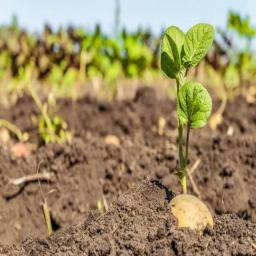Leaf: (177, 82, 212, 130), (184, 22, 214, 67), (161, 25, 185, 81)
